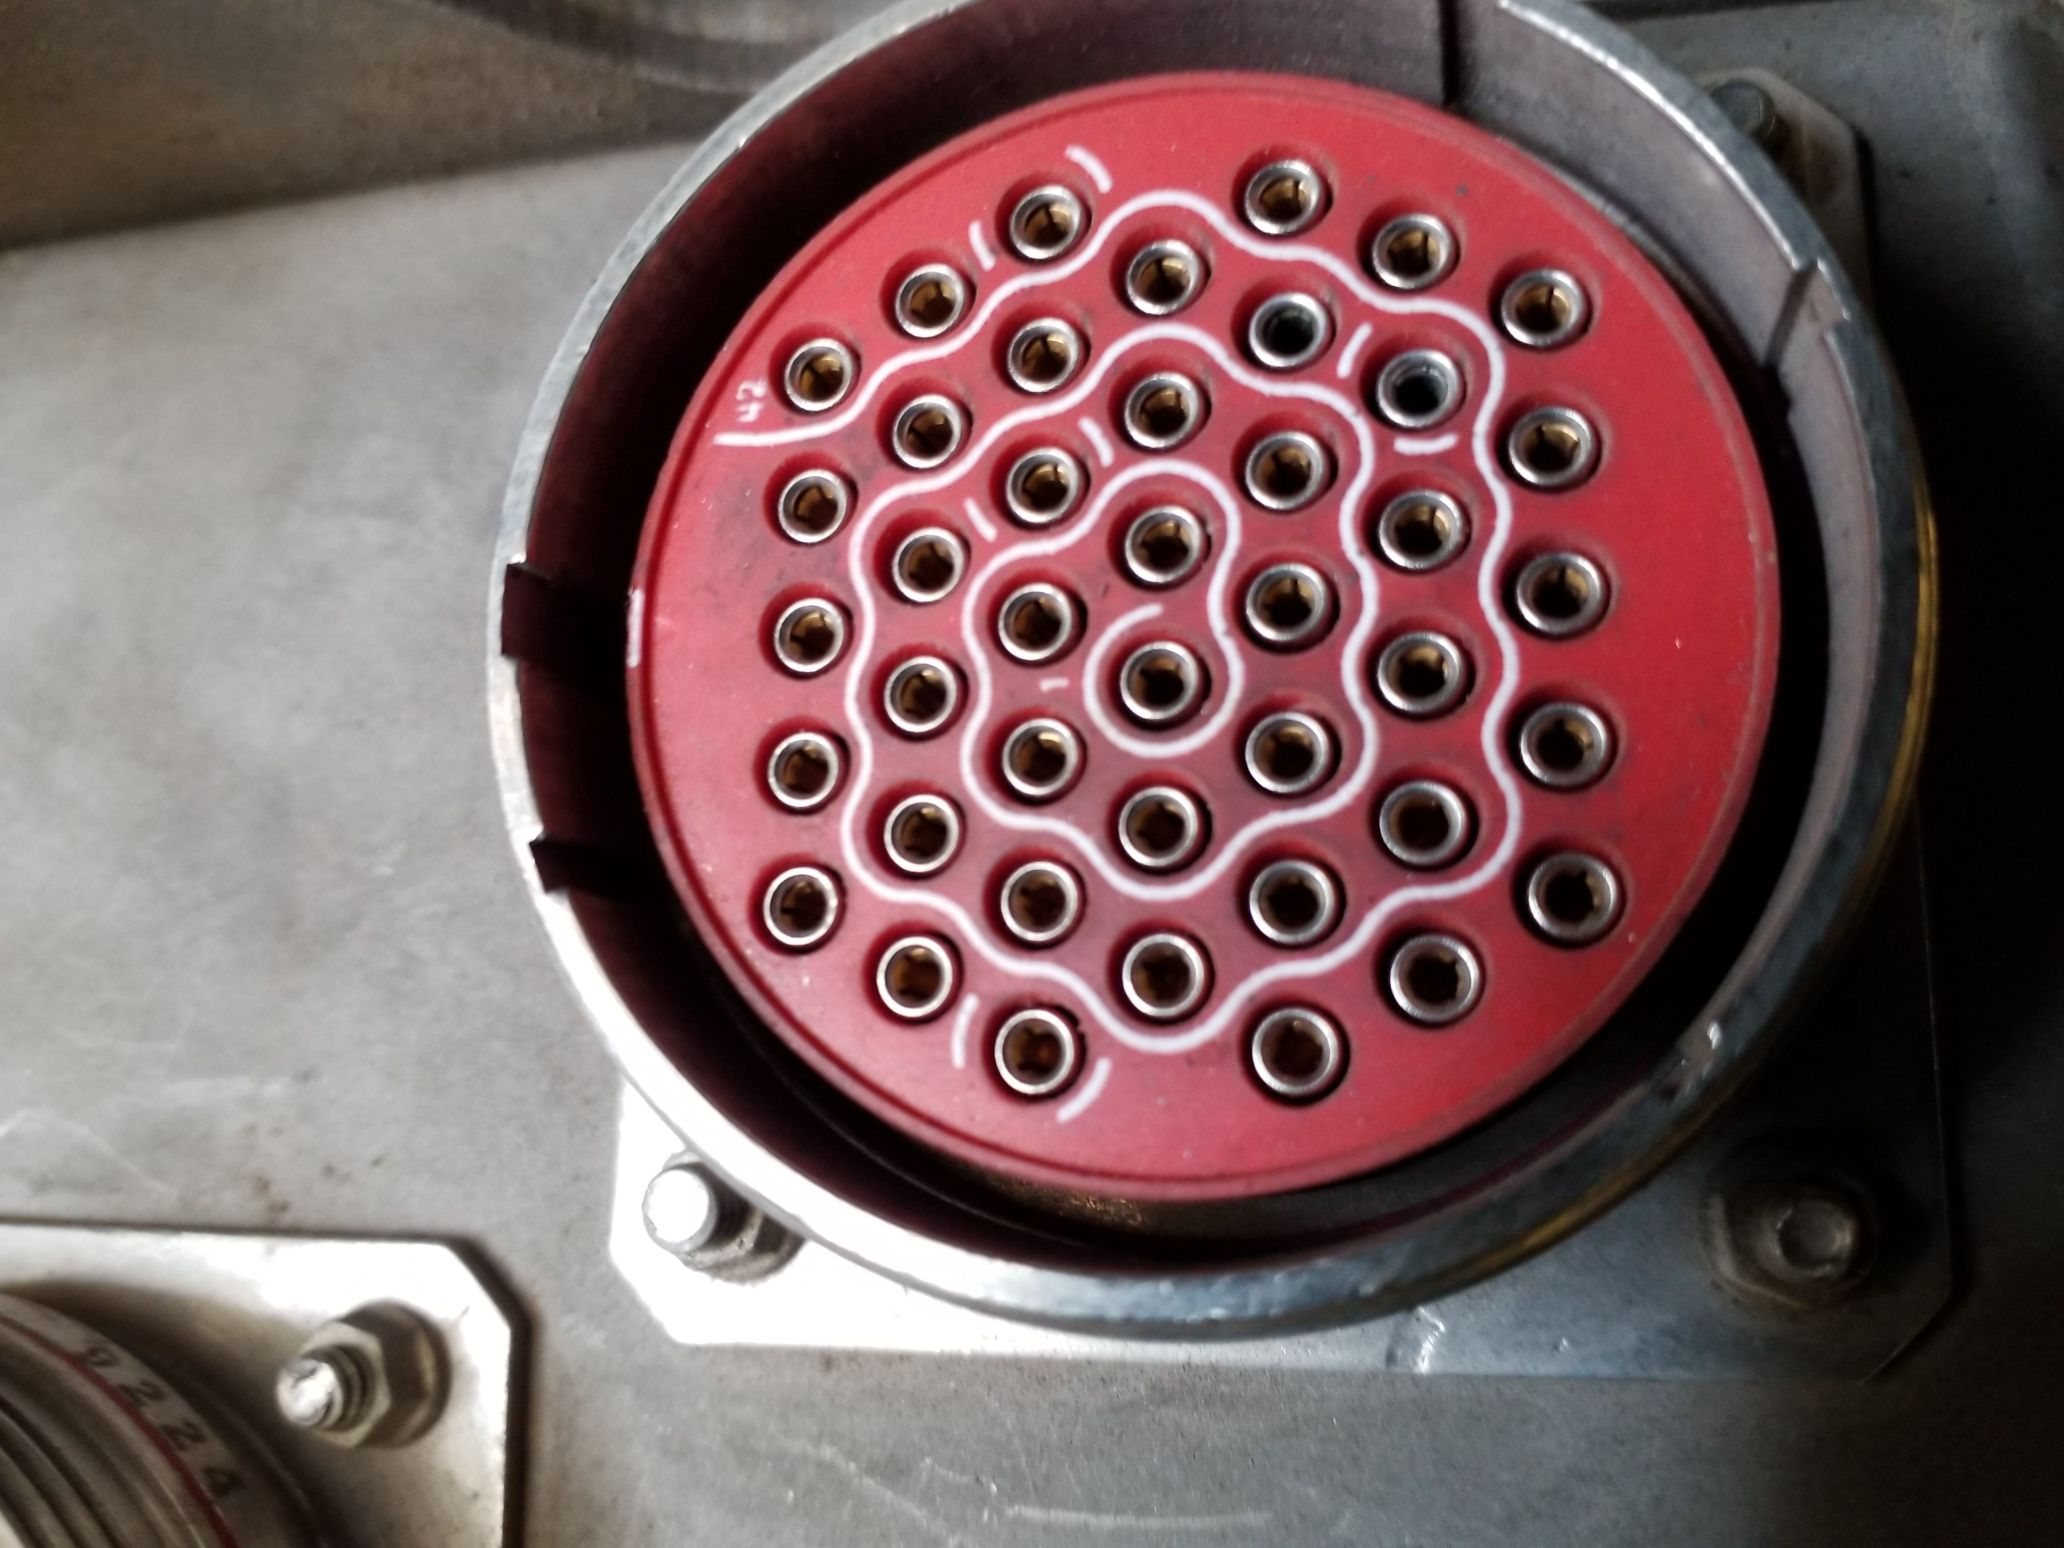inletround: (457, 10, 1950, 1333)
